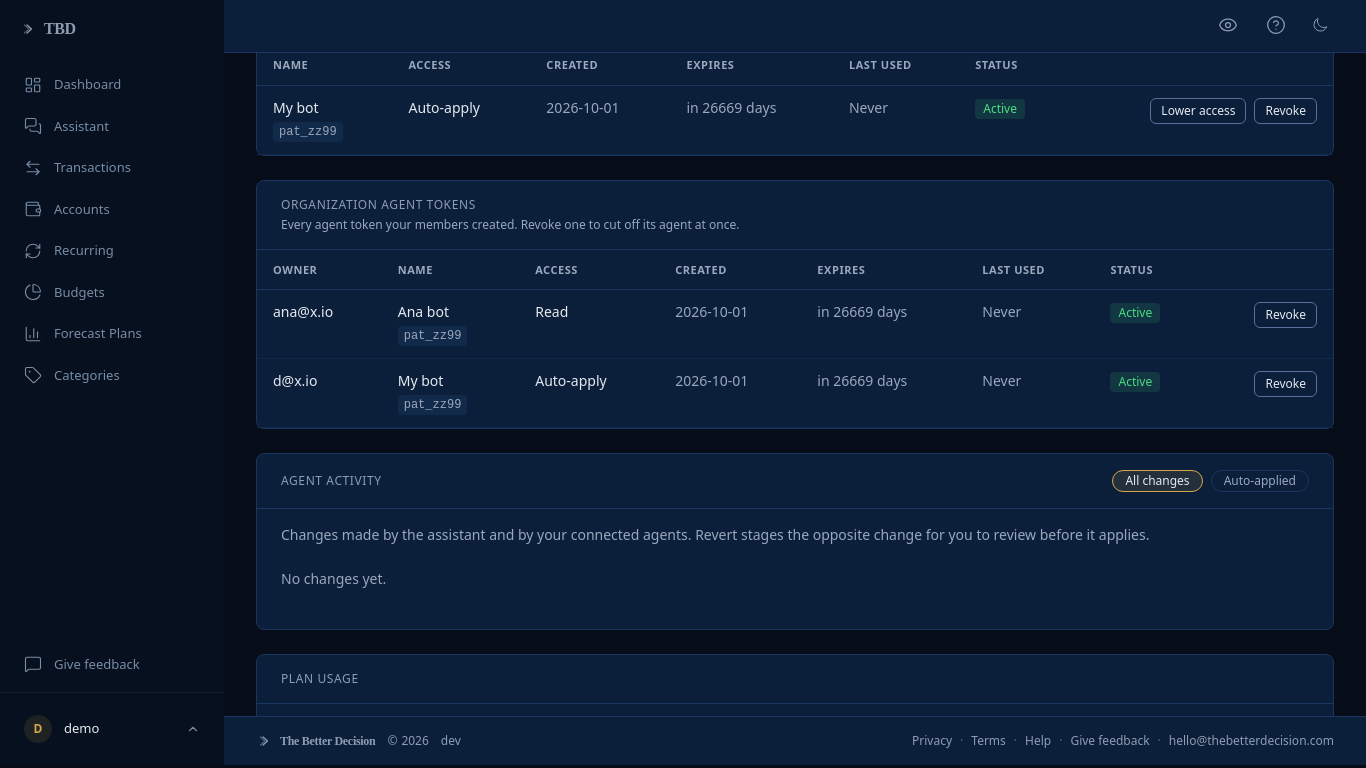
org agent tokens › F-619-STALE-B: revoking my own token in the org table updates the personal row
The width and height of the screenshot is (1366, 768).
(page scrolled)
Expected: the button with aria-label "Lower access for My bot" is shown, x1=1150 y1=98 x2=1246 y2=124
What coordinates should you click on to do the following:
click the button with aria-label "Revoke My bot owned by d@x.io"
I would click on:
 (1286, 384)
Its box is x1=1254 y1=371 x2=1317 y2=397.
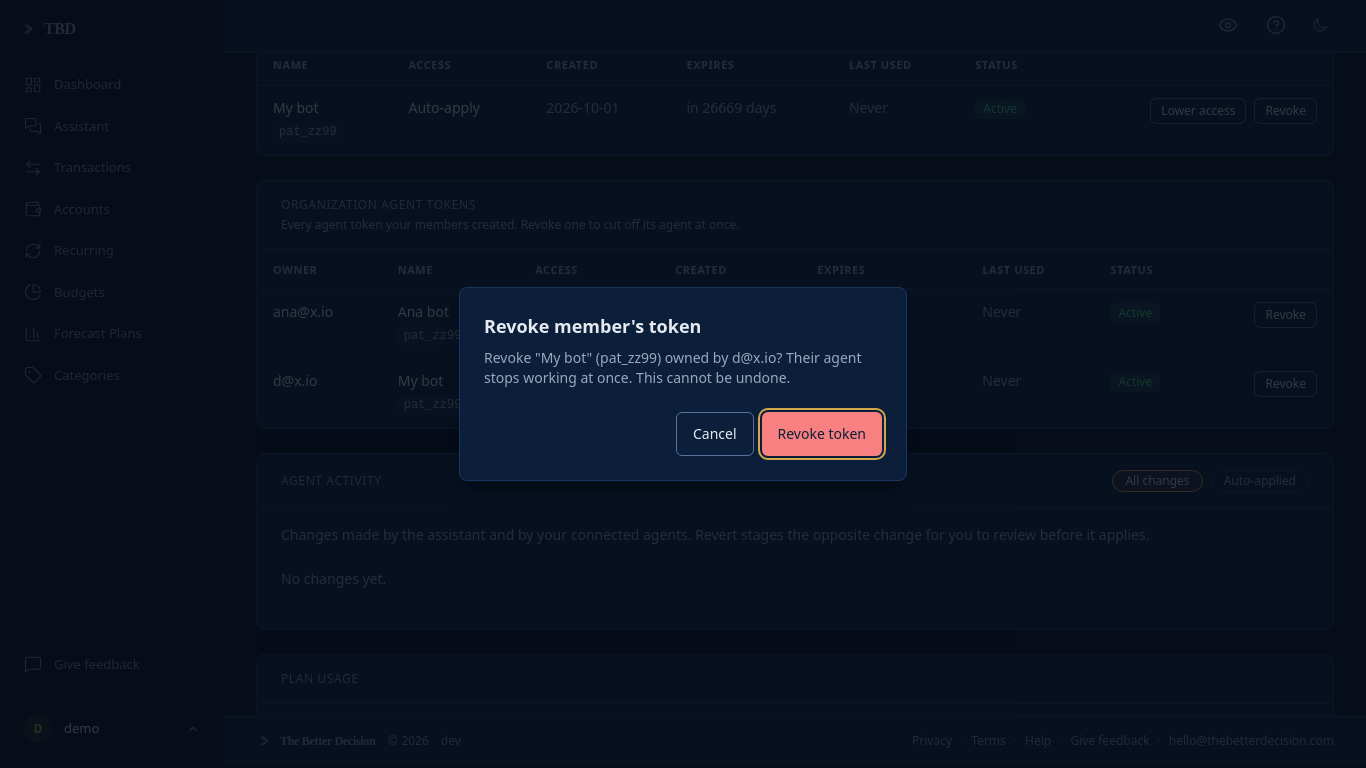
What coordinates should you click on to do the following:
click the button "Revoke token"
I would click on:
 (822, 434)
Its box is x1=762 y1=412 x2=882 y2=456.
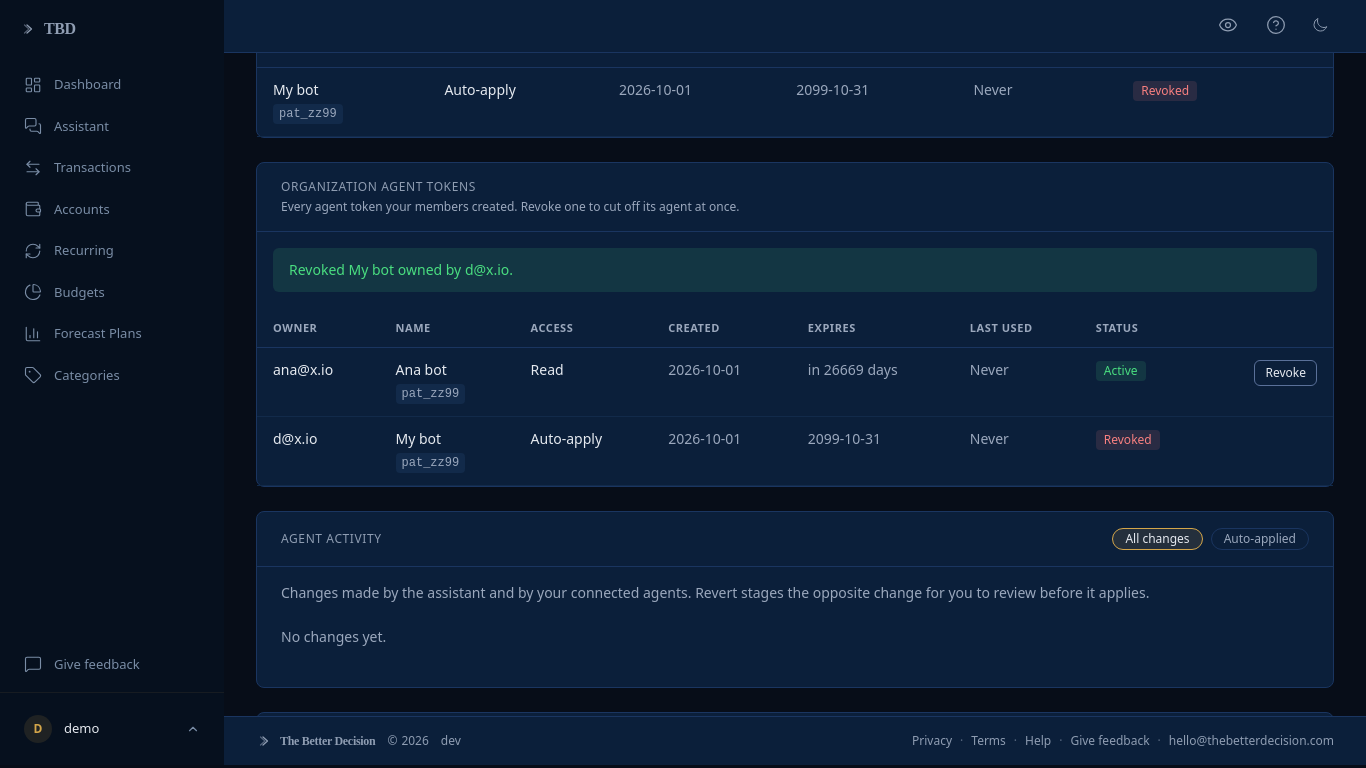
Now the text "Revoked" below "Last used" is shown, box x1=1141 y1=82 x2=1189 y2=99
